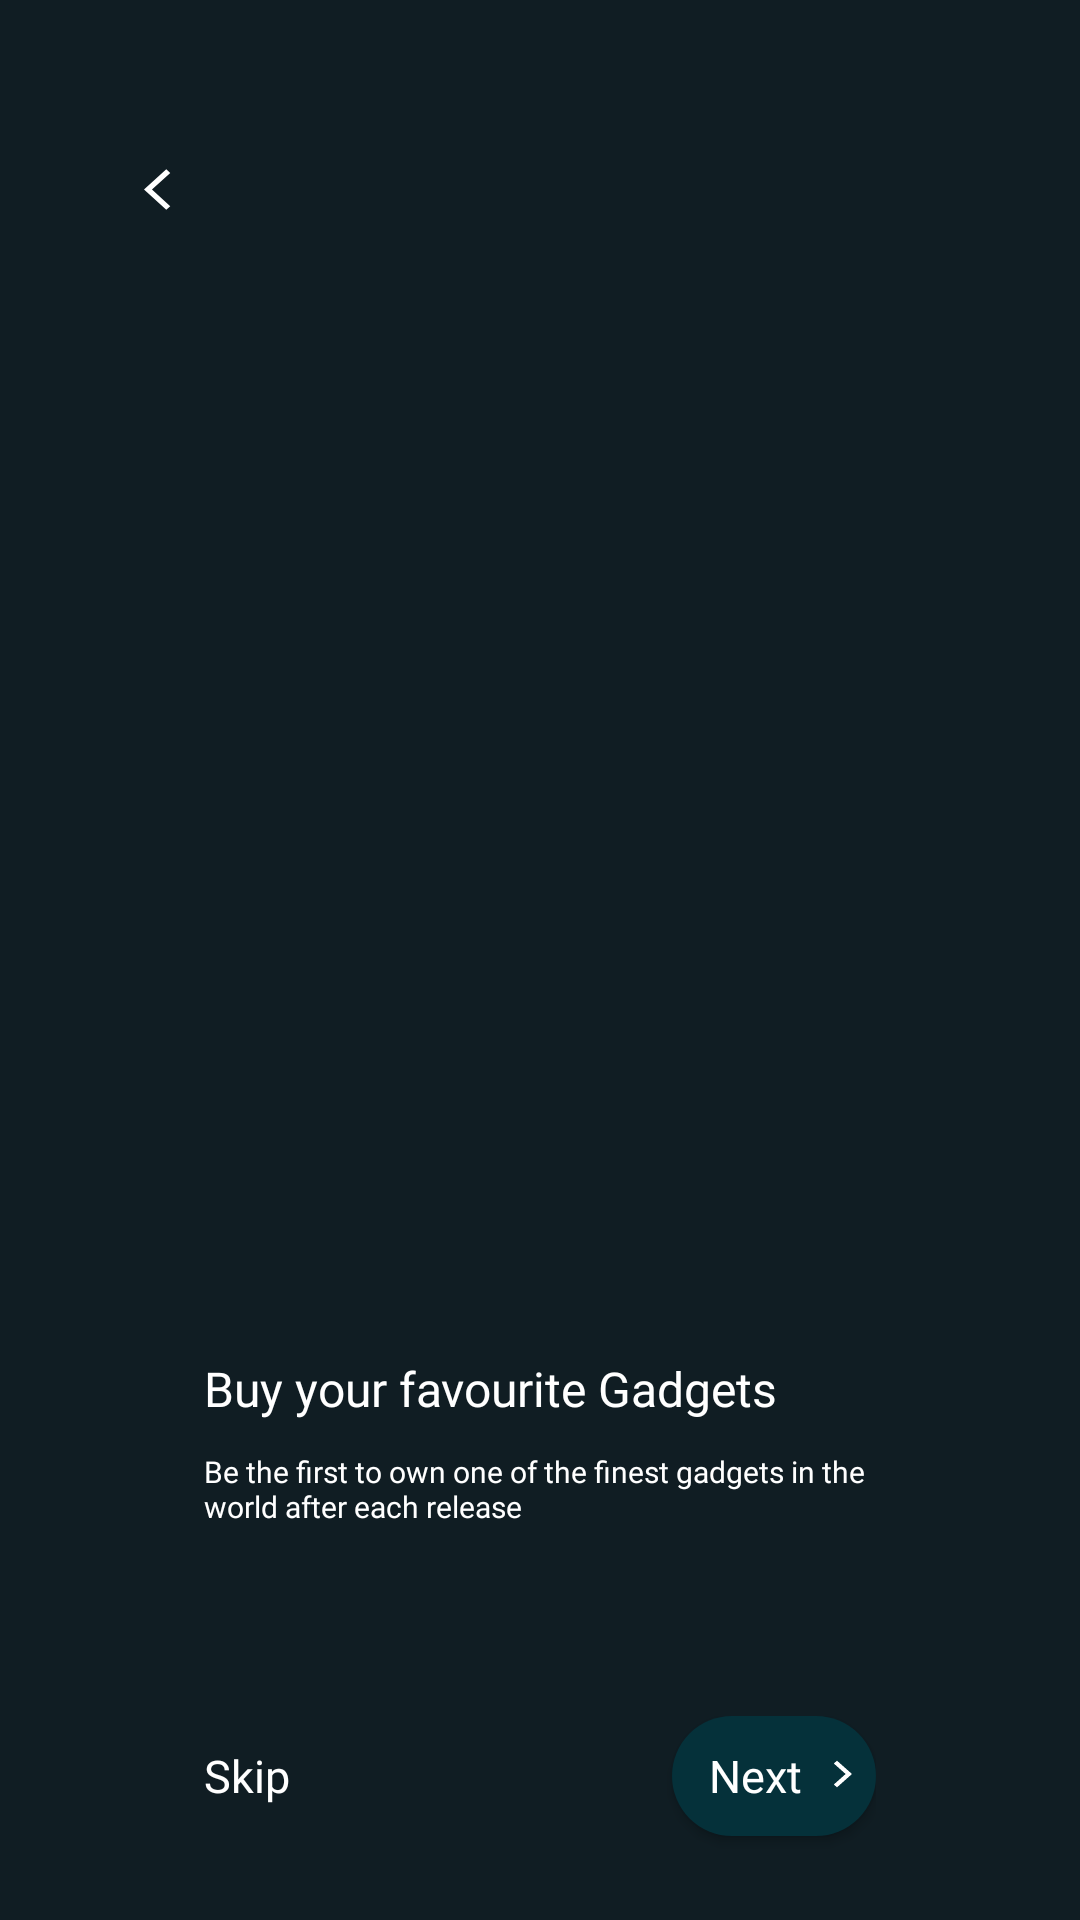

Where to tap for icons on this 1080px×1920px app screen, as (x,y):
back arrow: (157,189)
